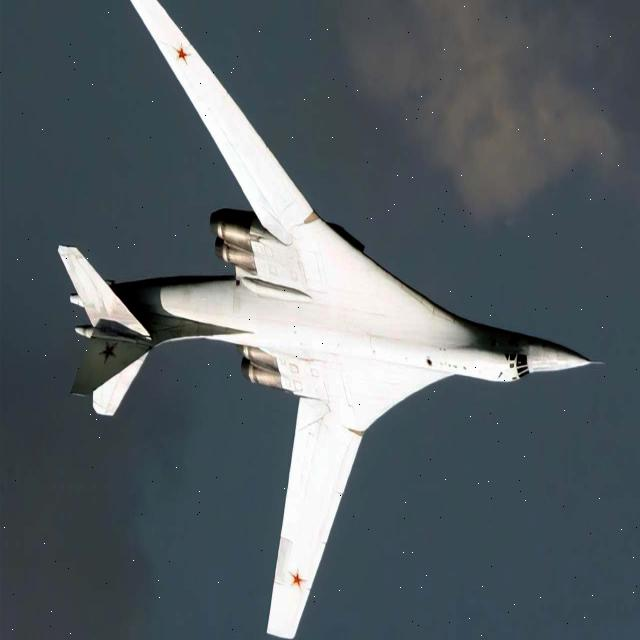Tu160: (1, 0, 629, 640)
